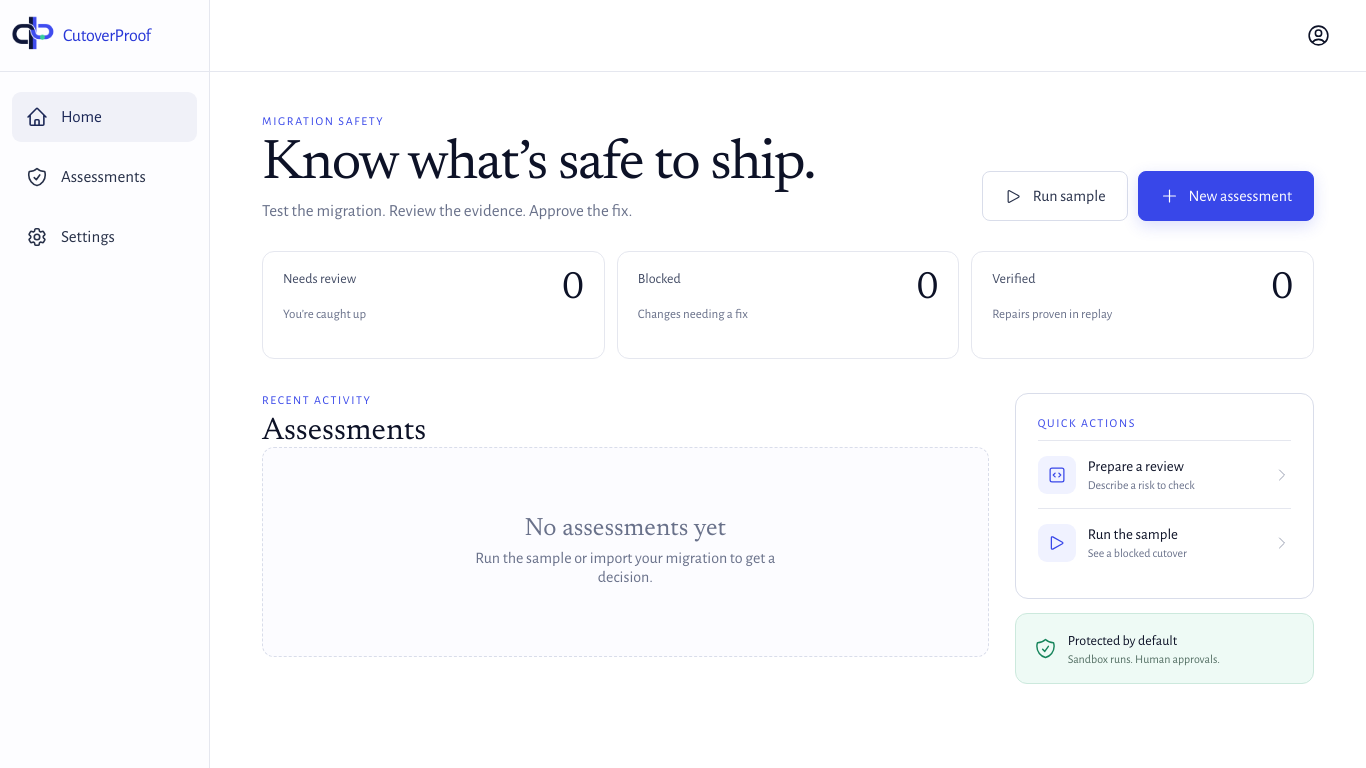
CutoverProof customer workspace › keeps the guided tour separate from an engineer's own assessment
Click the button "Run sample" at coordinates (1055, 196), box [982,171,1128,221]
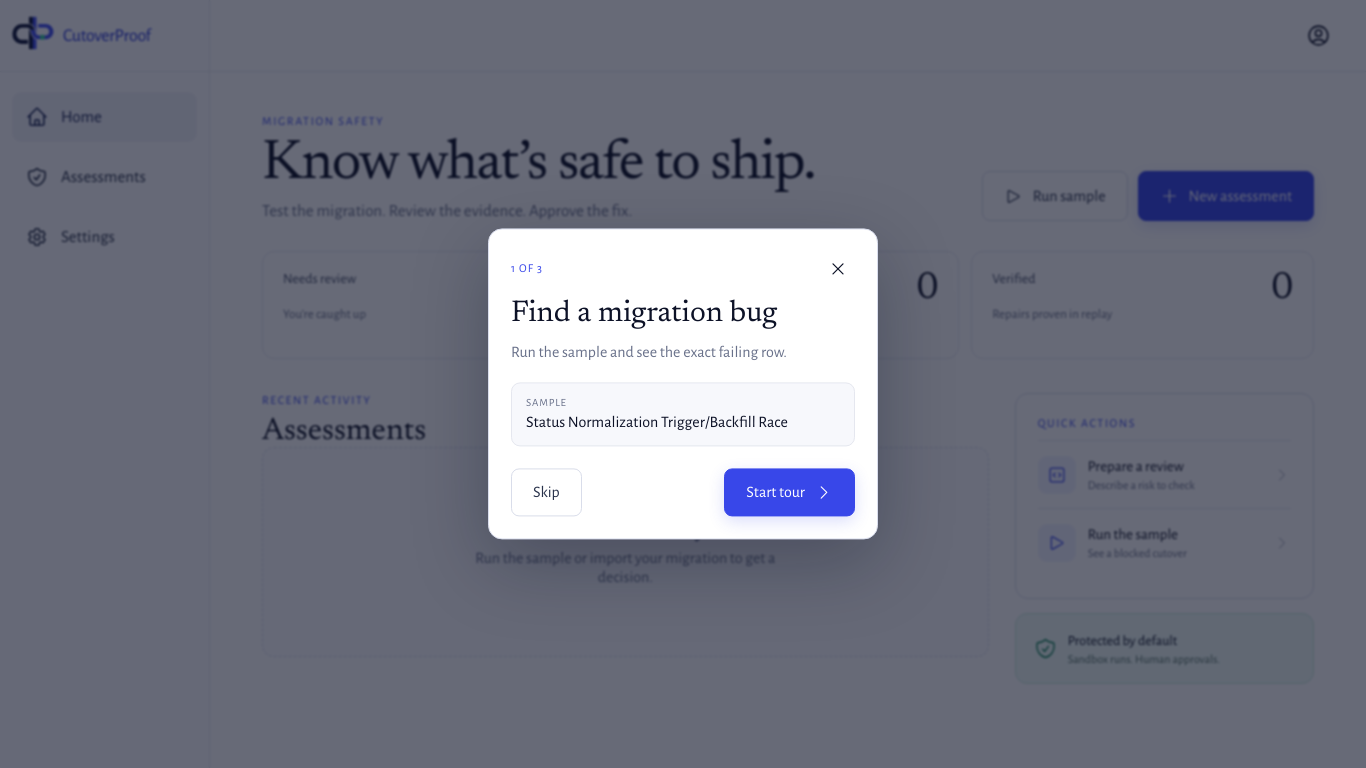
Check: the dialog named "Guided tour" is shown
Check: the text "Status Normalization Trigger/Backfill Race" is shown, box [526,415,788,431]
Click the button named "Exit tour" at coordinates (838, 268), box [821,251,855,285]
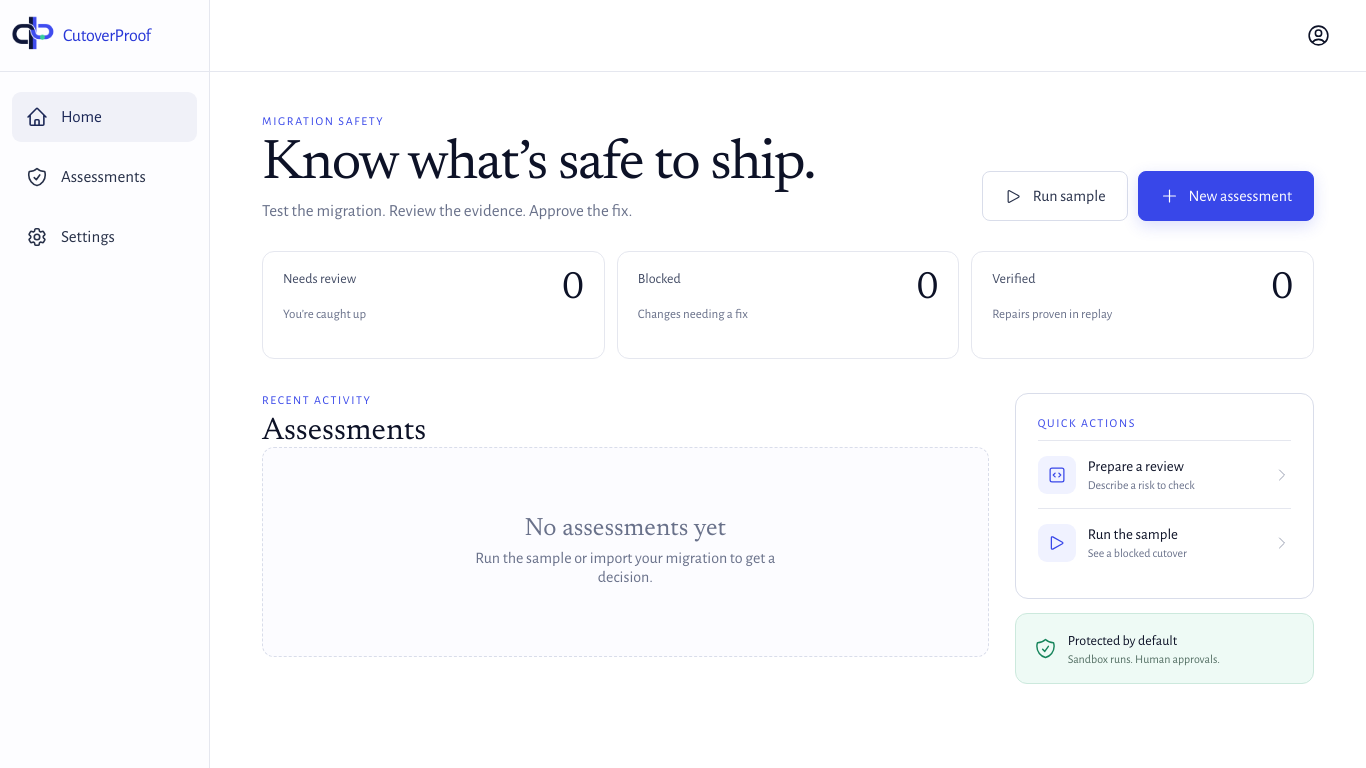
Click the button "New assessment" at coordinates (1226, 196), box [1138,171,1314,221]
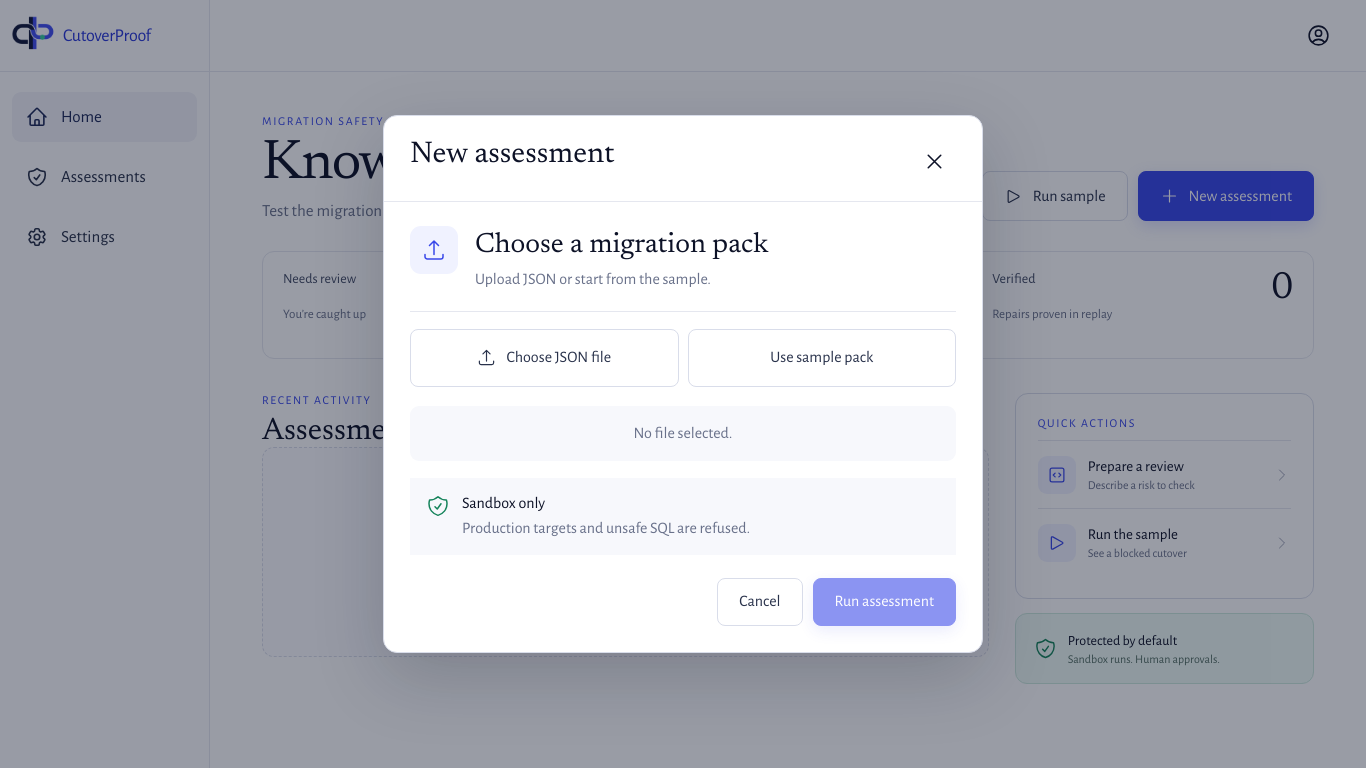
Check: the dialog "New assessment" is shown, box [383,115,983,653]
Check: the button "Use sample pack" is enabled, box [688,329,956,387]
Check: the text "No file selected." is shown, box [410,406,956,461]
